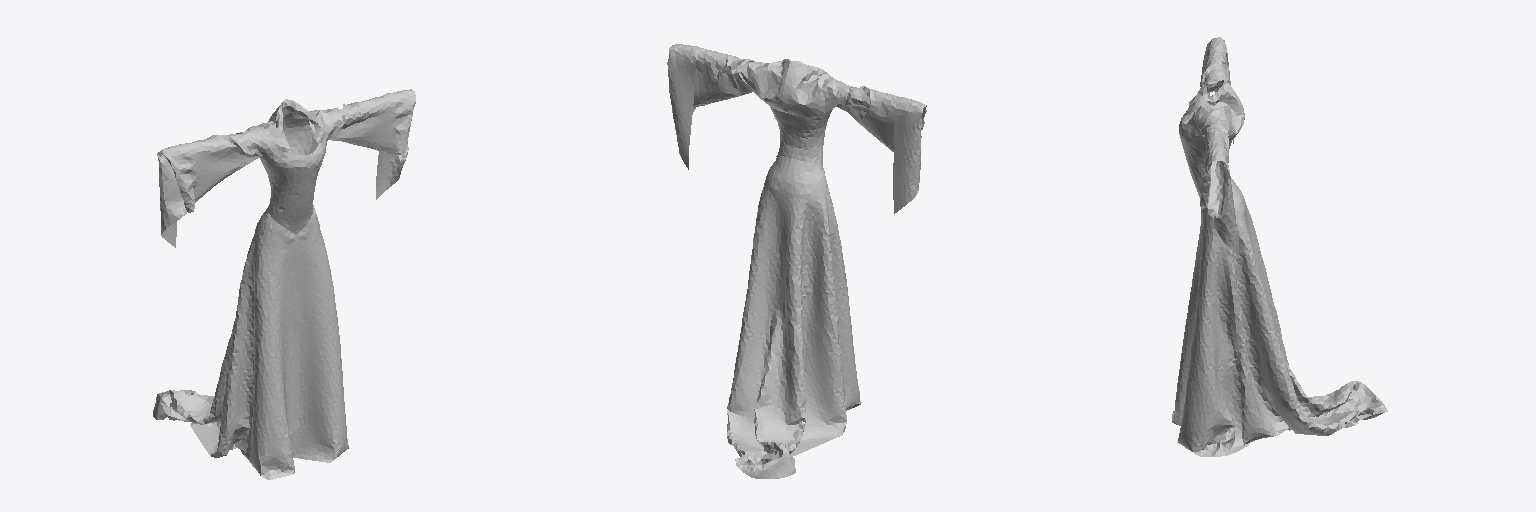
File: PrincessDress.obj
3 renders of one model, left to right at view 1: azimuth 30°, elevation 25°; view 2: azimuth 150°, elevation 25°; view 3: azimuth 270°, elevation 25°, orthographic.
Visible parts, largest first — view 1: g Dress:Mesh_Dress:Mesh; view 2: g Dress:Mesh_Dress:Mesh; view 3: g Dress:Mesh_Dress:Mesh.
Boxes of the visible parts, <box> form: g Dress:Mesh_Dress:Mesh: <box>153,89,415,479</box>; g Dress:Mesh_Dress:Mesh: <box>667,44,926,478</box>; g Dress:Mesh_Dress:Mesh: <box>1172,37,1387,456</box>.
Size of the model in its own units: 84.57 by 112 by 62.32.